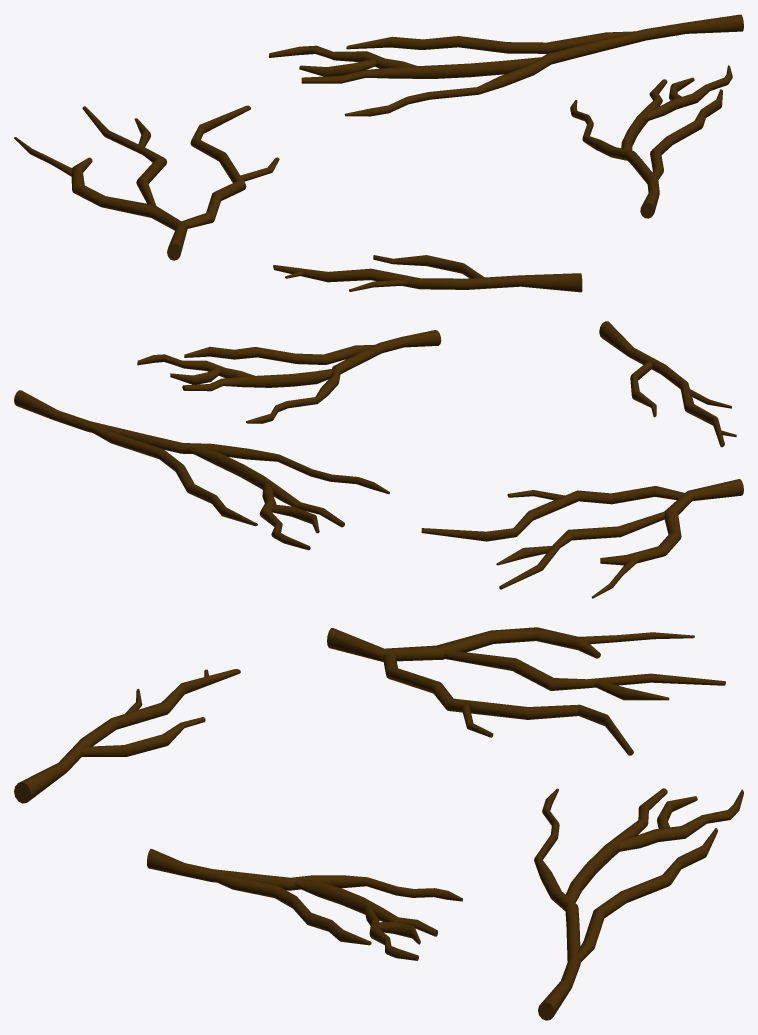
The model's file is tree_branches_from_poly_by_google(1).glb.
3 views of the same model, one above another, from view 1: azimuth 30°, elevation 25°; view 2: azimuth 150°, elevation 25°; view 3: azimuth 270°, elevation 25° (orthographic). The views are drawn at different scales.
Parts seen in each view (by area): view 1: Object_4; view 2: Object_4; view 3: Object_4.
Part boxes in pixels (<box>): Object_4: <box>14,14,743,292</box>; Object_4: <box>14,321,743,598</box>; Object_4: <box>14,627,743,1020</box>.
Size of the model in its own units: 68.2 by 2.48 by 55.16.
